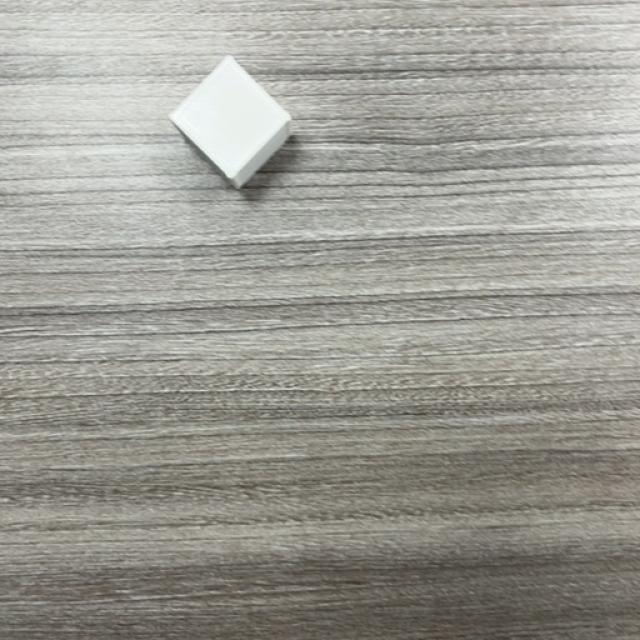Blanco: (169, 58, 295, 190)
